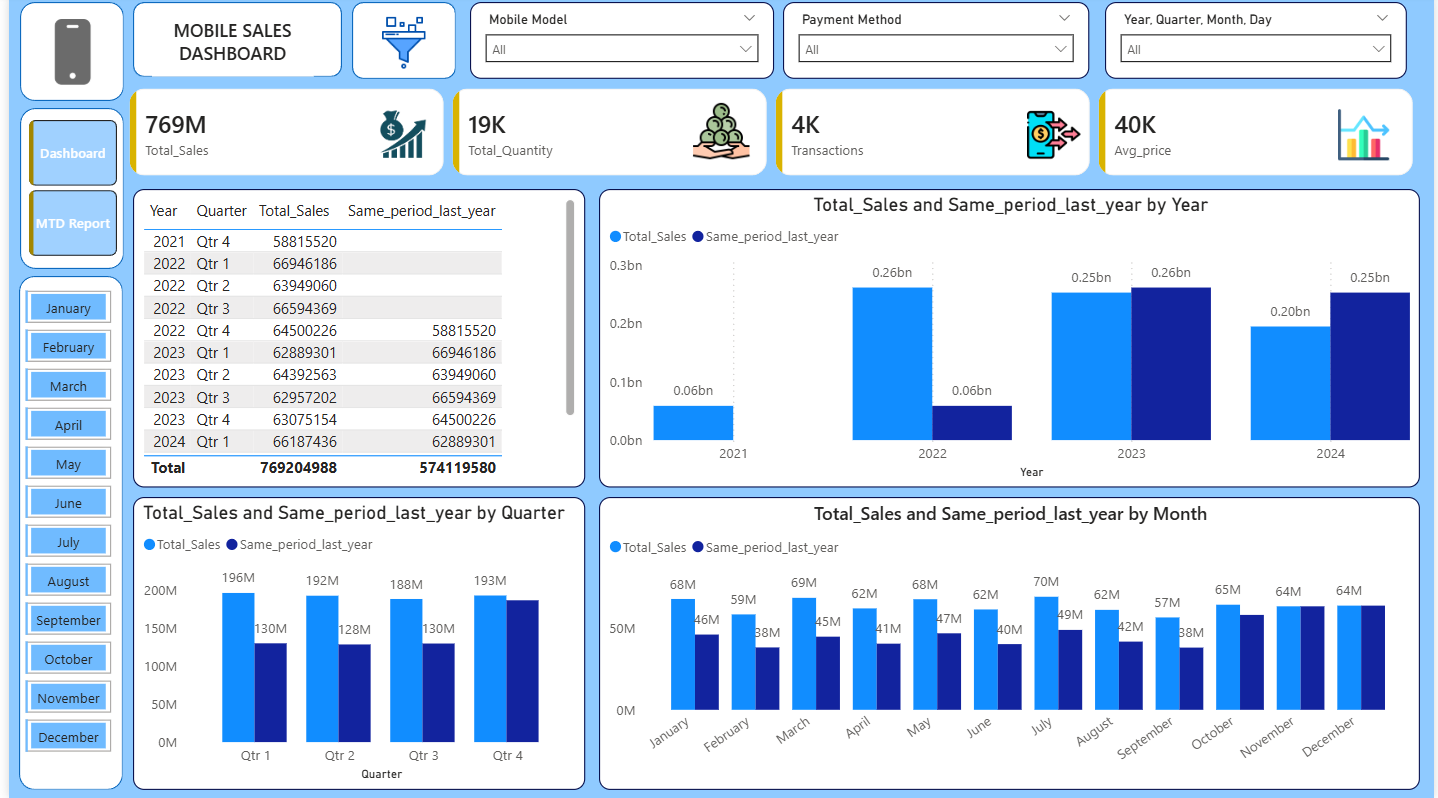

The page's visual inventory and layout, read from the dashboard file:
{"tool":"powerbi","page":{"name":"Same Period Last Year","canvas":[1280,720],"ordinal":2},"visuals":[{"type":"shape","box":[9.9,5.4,93.4,88.9],"z":0},{"type":"image","box":[11.7,20.6,90.7,59.3],"z":1000},{"type":"shape","box":[9.9,100.5,93.4,144.5],"z":2000},{"type":"cardVisual","fields":{"Data":["Mobile_sales_data.Total_Sales","Mobile_sales_data.Total_Quantity","Mobile_sales_data.Quantity","Mobile_sales_data.Avg_price"]},"box":[103.2,78.1,1163.5,88.9],"z":3000},{"type":"image","box":[326.8,100.4,53.9,46.7],"z":4000},{"type":"image","box":[610.5,94.2,58.4,53.9],"z":5000},{"type":"image","box":[913.9,95.1,47.6,59.3],"z":6000},{"type":"image","box":[1193.1,100.4,45.8,47.6],"z":7000},{"type":"slicer","fields":{"Values":["Mobile_sales_data.Mobile Model"]},"box":[413.9,5.4,272.9,69.1],"z":8000},{"type":"slicer","fields":{"Values":["Mobile_sales_data.Payment Method"]},"box":[694.9,5.4,274.7,69.1],"z":9000},{"type":"slicer","fields":{"Values":["Custom_Calendar.Date.Variation.Date Hierarchy.Year","Custom_Calendar.Date.Variation.Date Hierarchy.Quarter","Custom_Calendar.Date.Variation.Date Hierarchy.Month","Custom_Calendar.Date.Variation.Date Hierarchy.Day"]},"box":[983.9,5.4,271.1,69.1],"z":10000},{"type":"shape","box":[307.9,5.4,93.4,69.1],"z":11000},{"type":"image","box":[321.4,17.8,65.5,48.5],"z":12000},{"type":"shape","box":[111.3,5.4,187.6,67.3],"z":13000},{"type":"textbox","box":[128.4,14.2,144.5,58.4],"z":14000},{"type":"shape","box":[9,251.4,93.4,461.4],"z":15000},{"type":"advancedSlicerVisual","fields":{"Values":["Custom_Calendar.Date.Variation.Date Hierarchy.Month"]},"box":[9.9,259.5,87.1,434.5],"z":16000},{"type":"tableEx","fields":{"Values":["Custom_Calendar.Date.Variation.Date Hierarchy.Year","Custom_Calendar.Date.Variation.Date Hierarchy.Quarter","Mobile_sales_data.Total_Sales","Mobile_sales_data.Same_period_last_year"]},"box":[111.3,173.3,405.8,268.4],"z":17000},{"type":"clusteredColumnChart","fields":{"Category":["Custom_Calendar.Date.Variation.Date Hierarchy.Year","Custom_Calendar.Date.Variation.Date Hierarchy.Quarter"],"Y":["Mobile_sales_data.Total_Sales","Mobile_sales_data.Same_period_last_year"]},"box":[529.7,173.3,737.1,268.4],"z":18000},{"type":"clusteredColumnChart","fields":{"Category":["Custom_Calendar.Date.Variation.Date Hierarchy.Year","Custom_Calendar.Date.Variation.Date Hierarchy.Quarter"],"Y":["Mobile_sales_data.Total_Sales","Mobile_sales_data.Same_period_last_year"]},"box":[111.3,449.8,405.8,263],"z":19000},{"type":"clusteredColumnChart","fields":{"Y":["Mobile_sales_data.Total_Sales","Mobile_sales_data.Same_period_last_year"],"Category":["Custom_Calendar.Date.Variation.Date Hierarchy.Year","Custom_Calendar.Date.Variation.Date Hierarchy.Quarter","Custom_Calendar.Date.Variation.Date Hierarchy.Month","Custom_Calendar.Date.Variation.Date Hierarchy.Day"]},"box":[529.7,449.8,737.1,263],"z":20000},{"type":"pageNavigator","box":[18,111.3,79,123],"z":20001}]}

Visuals, with their boxes in screenshot pixels (x1, y1, x2, y2), scaled from the page's 1280x720 canvas onto the 1438x798 screenshot:
shape: select_region(11, 6, 116, 105)
image: select_region(13, 23, 115, 89)
shape: select_region(11, 111, 116, 272)
cardVisual - Mobile_sales_data.Total_Sales x Mobile_sales_data.Total_Quantity: select_region(116, 87, 1423, 185)
image: select_region(367, 111, 428, 163)
image: select_region(686, 104, 751, 164)
image: select_region(1027, 105, 1080, 171)
image: select_region(1340, 111, 1392, 164)
slicer - Mobile_sales_data.Mobile Model: select_region(465, 6, 772, 83)
slicer - Mobile_sales_data.Payment Method: select_region(781, 6, 1089, 83)
slicer - Custom_Calendar.Date.Variation.Date Hierarchy.Year x Custom_Calendar.Date.Variation.Date Hierarchy.Quarter: select_region(1105, 6, 1410, 83)
shape: select_region(346, 6, 451, 83)
image: select_region(361, 20, 435, 73)
shape: select_region(125, 6, 336, 81)
textbox: select_region(144, 16, 307, 80)
shape: select_region(10, 279, 115, 790)
advancedSlicerVisual - Custom_Calendar.Date.Variation.Date Hierarchy.Month: select_region(11, 288, 109, 769)
tableEx - Custom_Calendar.Date.Variation.Date Hierarchy.Year x Custom_Calendar.Date.Variation.Date Hierarchy.Quarter: select_region(125, 192, 581, 490)
clusteredColumnChart - Custom_Calendar.Date.Variation.Date Hierarchy.Year x Custom_Calendar.Date.Variation.Date Hierarchy.Quarter: select_region(595, 192, 1423, 490)
clusteredColumnChart - Custom_Calendar.Date.Variation.Date Hierarchy.Year x Custom_Calendar.Date.Variation.Date Hierarchy.Quarter: select_region(125, 499, 581, 790)
clusteredColumnChart - Mobile_sales_data.Total_Sales x Mobile_sales_data.Same_period_last_year: select_region(595, 499, 1423, 790)
pageNavigator: select_region(20, 123, 109, 260)
